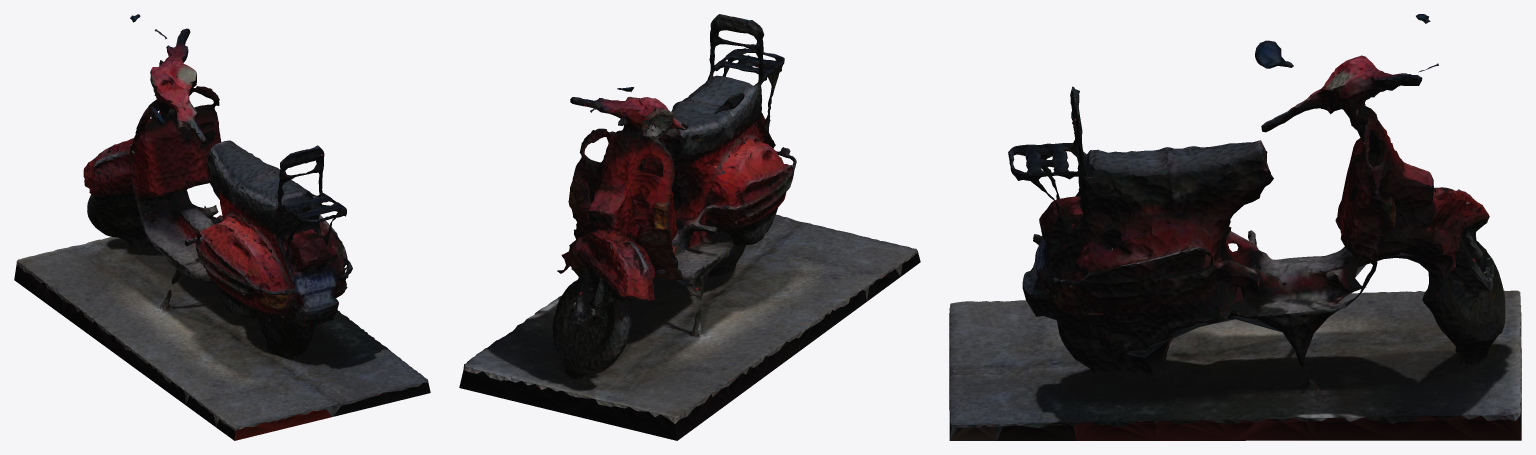
File: david_bike_hall_3.glb
3 renders of one model, left to right at view 1: azimuth 30°, elevation 25°; view 2: azimuth 150°, elevation 25°; view 3: azimuth 270°, elevation 25°, orthographic. The views are drawn at different scales.
Size of the model in its own units: 0.9257 by 1.22 by 1.79.
Materials: 1 (1 with a texture image).
